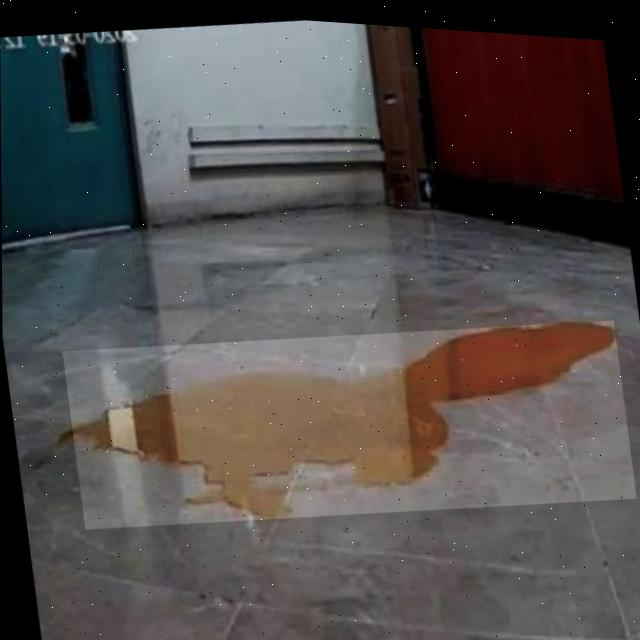spillage: (72, 314, 615, 515)
